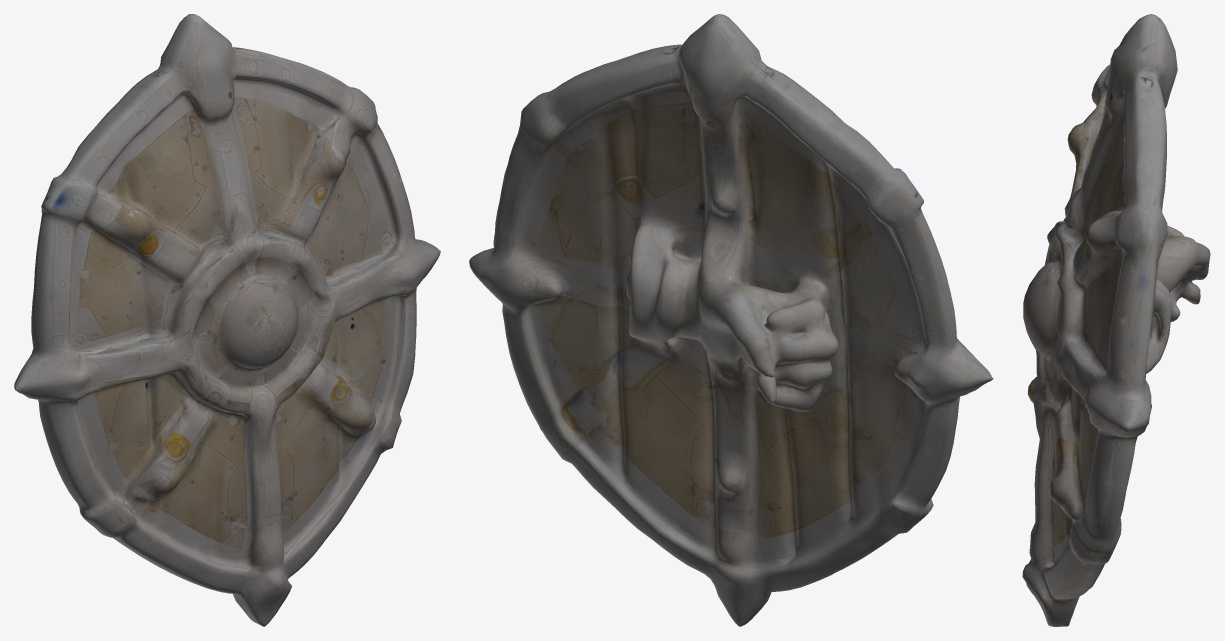
The model's file is Steel Shield.glb.
3 views of the same model, side by side, from view 1: azimuth 30°, elevation 25°; view 2: azimuth 150°, elevation 25°; view 3: azimuth 270°, elevation 25° (orthographic). The views are drawn at different scales.
Parts seen in each view (by area): view 1: file1; view 2: file1; view 3: file1.
Boxes of the visible parts, x1=… form: file1: x1=14, y1=14, x2=440, y2=626; file1: x1=469, y1=14, x2=993, y2=626; file1: x1=1022, y1=14, x2=1210, y2=626.
Size of the model in its own units: 1.6 by 1.99 by 0.5653.
Materials: 1 (1 with a texture image).
